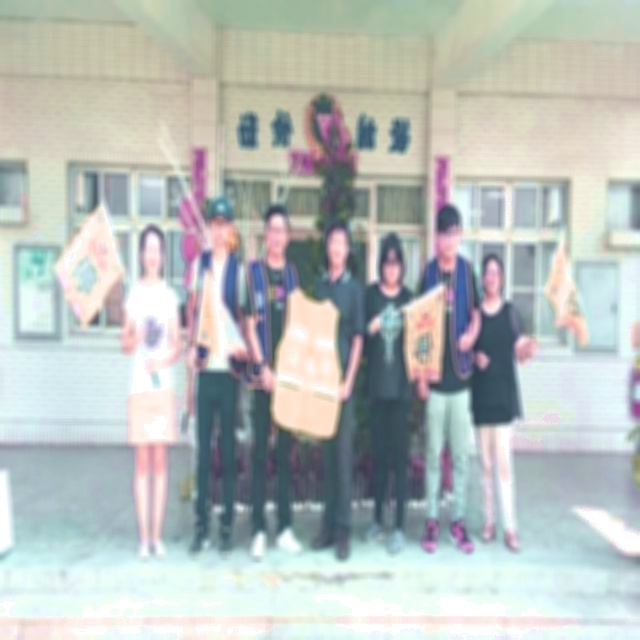Sin_Casco_Mascarrilla: (379, 230, 406, 285), (263, 202, 289, 253), (325, 214, 350, 266)
